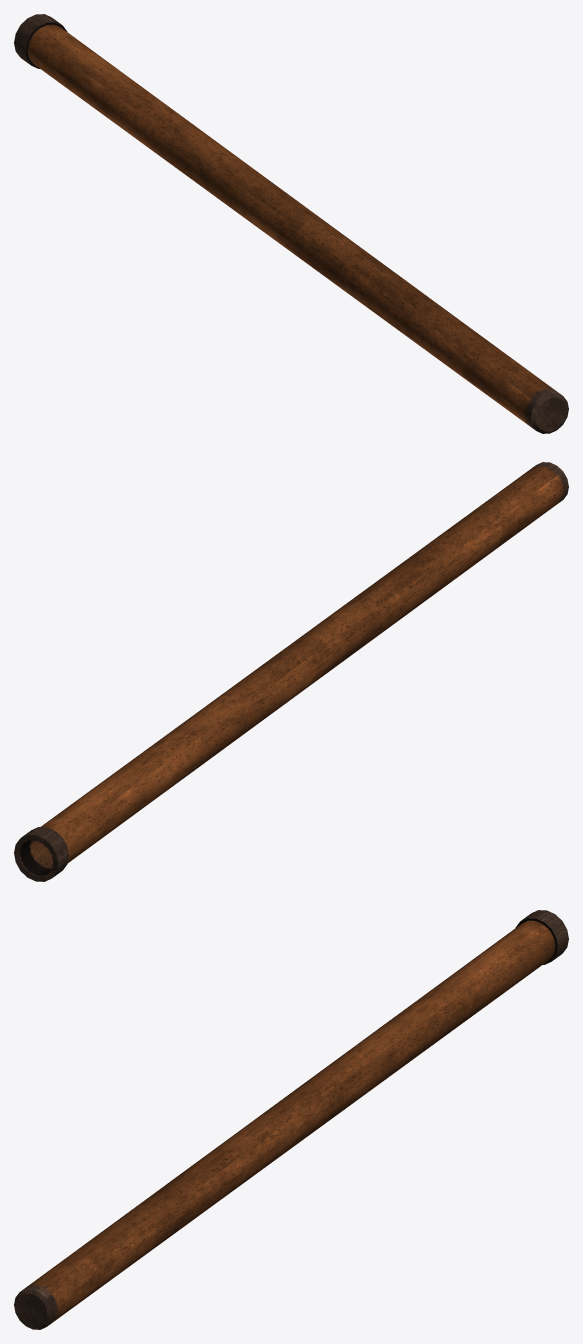
Rendered from SM_Quiver.fbx.
3 renders of one model, top to bottom at view 1: azimuth 30°, elevation 25°; view 2: azimuth 150°, elevation 25°; view 3: azimuth 330°, elevation 25°, orthographic.
Parts seen in each view (by area): view 1: SM_Quiver; view 2: SM_Quiver; view 3: SM_Quiver.
Part boxes in pixels (left/top/right/bottom): SM_Quiver: left=14, top=14, right=568, bottom=433; SM_Quiver: left=14, top=462, right=568, bottom=881; SM_Quiver: left=14, top=910, right=568, bottom=1329.
Bounding box in the file's own units: 4.48 × 90.3 × 4.48.
